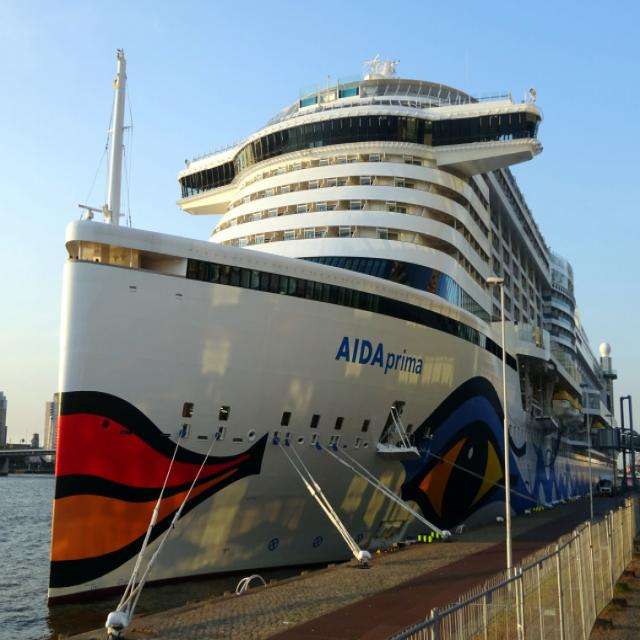cruises: (46, 24, 623, 600)
